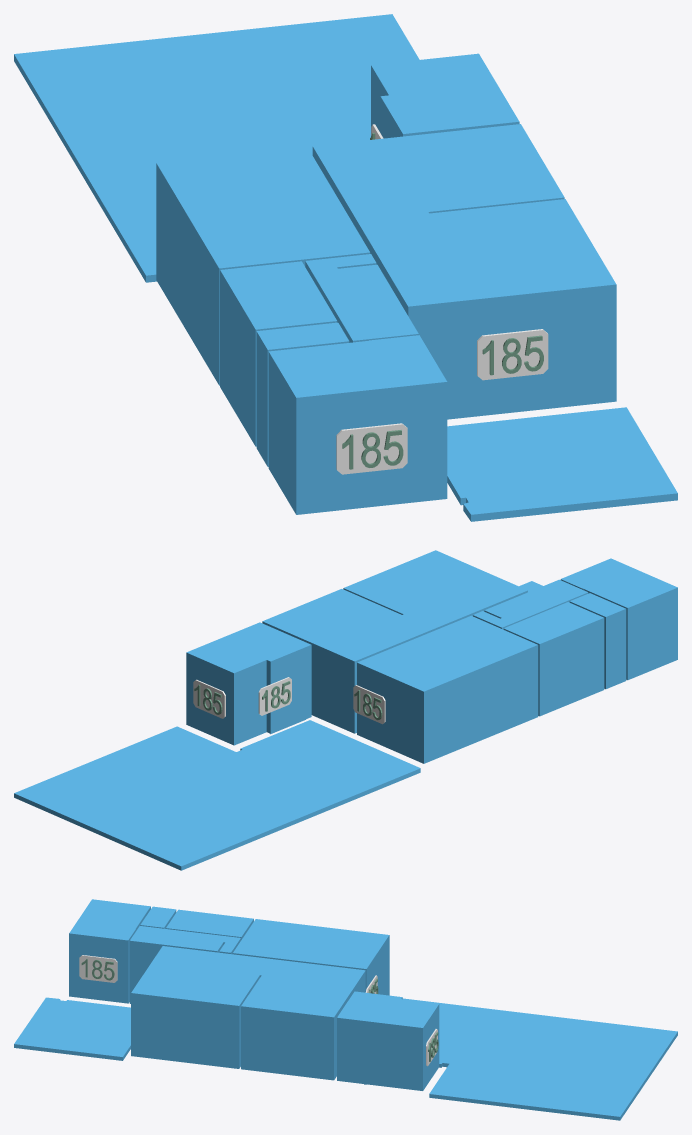
The picture shows the model from 3 angles, top to bottom: view 1: azimuth 30°, elevation 25°; view 2: azimuth 150°, elevation 25°; view 3: azimuth 270°, elevation 25°; orthographic projection. The views are drawn at different scales.
Parts seen in each view (by area): view 1: g_9, g_4, g_2, g_1, g_8, g_3, g_6, g_0, g_5, g_7, g_21, g_29; view 2: g_9, g_1, g_0, g_3, g_4, g_6, g_2, g_7, g_5, g_13, g_25, g_33; view 3: g_9, g_4, g_3, g_0, g_1, g_8, g_2, g_5, g_6, g_17, g_7.
Boxes of the visible parts, x1=… form: g_9: x1=14, y1=14, x2=419, y2=282; g_4: x1=357, y1=199, x2=616, y2=419; g_2: x1=268, y1=335, x2=447, y2=514; g_1: x1=156, y1=146, x2=370, y2=385; g_8: x1=447, y1=407, x2=677, y2=521; g_3: x1=312, y1=124, x2=564, y2=229; g_6: x1=220, y1=261, x2=337, y2=446; g_0: x1=371, y1=53, x2=519, y2=138; g_5: x1=305, y1=254, x2=418, y2=342; g_7: x1=256, y1=322, x2=349, y2=466; g_21: x1=336, y1=423, x2=407, y2=474; g_29: x1=477, y1=329, x2=548, y2=380; g_9: x1=14, y1=720, x2=420, y2=870; g_1: x1=357, y1=615, x2=538, y2=763; g_0: x1=186, y1=622, x2=311, y2=745; g_3: x1=262, y1=589, x2=435, y2=733; g_4: x1=343, y1=550, x2=527, y2=629; g_6: x1=503, y1=602, x2=604, y2=716; g_2: x1=560, y1=558, x2=677, y2=680; g_7: x1=569, y1=593, x2=626, y2=689; g_5: x1=473, y1=579, x2=588, y2=629; g_13: x1=258, y1=677, x2=291, y2=715; g_25: x1=193, y1=679, x2=225, y2=718; g_33: x1=353, y1=685, x2=385, y2=724; g_9: x1=402, y1=998, x2=677, y2=1120; g_4: x1=131, y1=946, x2=270, y2=1068; g_3: x1=241, y1=959, x2=365, y2=1080; g_0: x1=337, y1=991, x2=439, y2=1090; g_1: x1=232, y1=919, x2=389, y2=995; g_8: x1=14, y1=997, x2=130, y2=1060; g_2: x1=69, y1=899, x2=150, y2=1003; g_5: x1=129, y1=926, x2=240, y2=1003; g_6: x1=166, y1=909, x2=253, y2=940; g_17: x1=79, y1=955, x2=117, y2=982; g_7: x1=140, y1=906, x2=176, y2=928.
Bounding box in the file's own units: 13.01 × 2.65 × 23.69.
